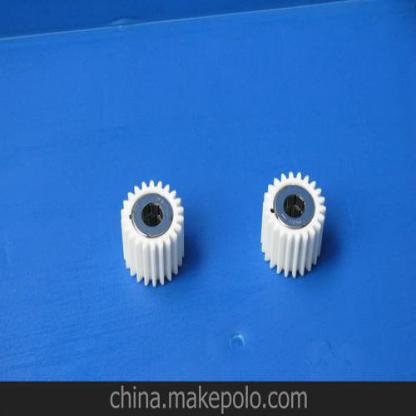FOD: (257, 167, 328, 282), (119, 178, 187, 289)
